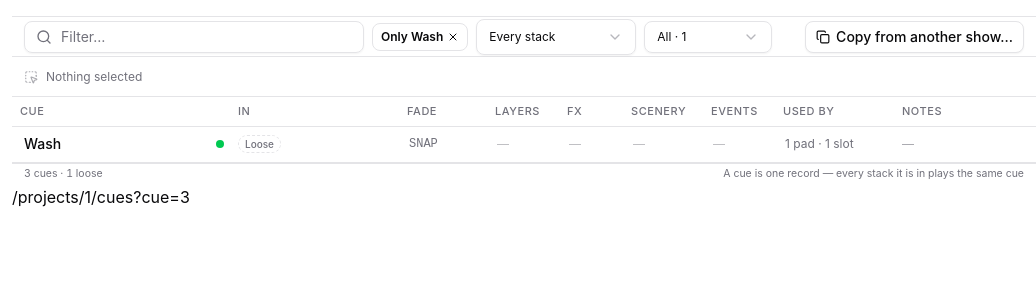
Scenario: ProjectCues › lands filtered to one cue from `?cue=`, and lets it go
This screenshot has width=1036, height=296.
Click the button "Only Wash". click: (420, 36)
box: [372,22,468,50]
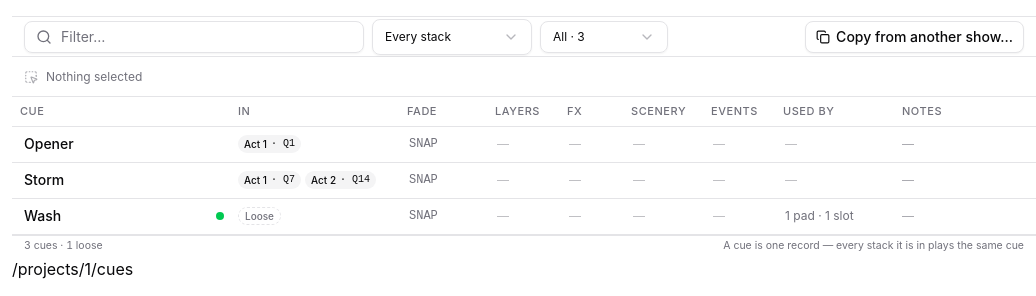
Now the text with test id "where" reads "/projects/1/cues", box [12,258,133,278]
